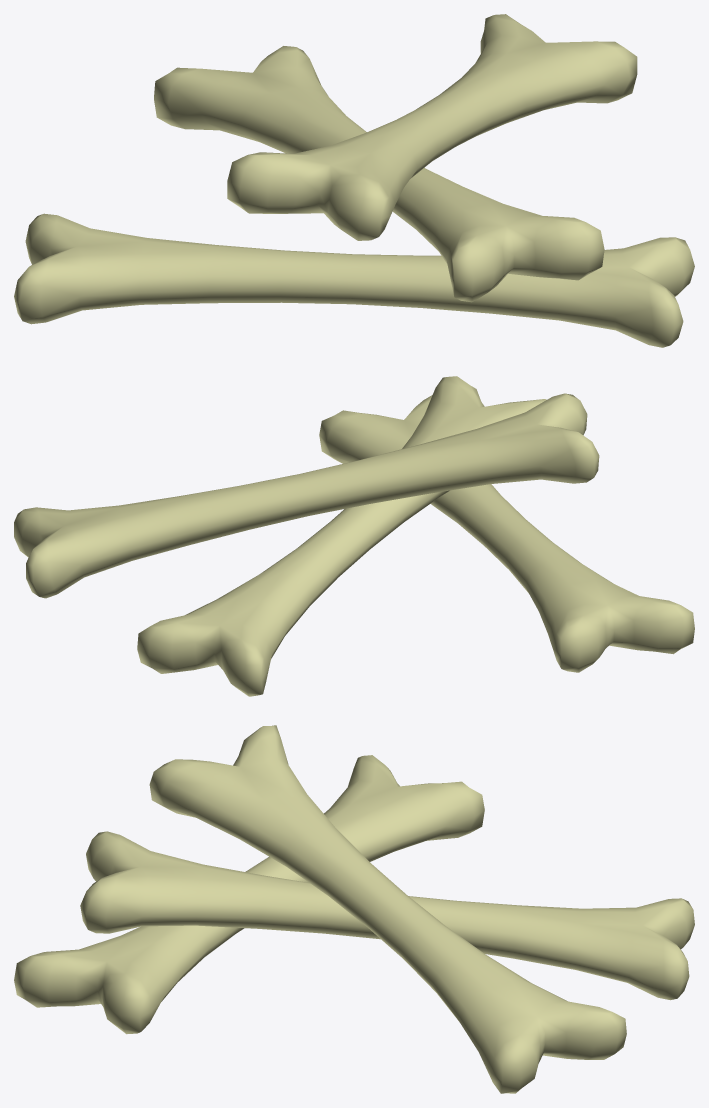
The model's file is Bone_Sile.fbx.
3 views of the same model, one above another, from view 1: azimuth 30°, elevation 25°; view 2: azimuth 150°, elevation 25°; view 3: azimuth 270°, elevation 25° (orthographic). The views are drawn at different scales.
Parts seen in each view (by area): view 1: Bone_Pile; view 2: Bone_Pile; view 3: Bone_Pile.
Boxes of the visible parts, left/top/right/bottom form: Bone_Pile: left=14, top=14, right=694, bottom=347; Bone_Pile: left=14, top=376, right=694, bottom=696; Bone_Pile: left=14, top=725, right=694, bottom=1093.
Size of the model in its own units: 288 by 68.84 by 267.
